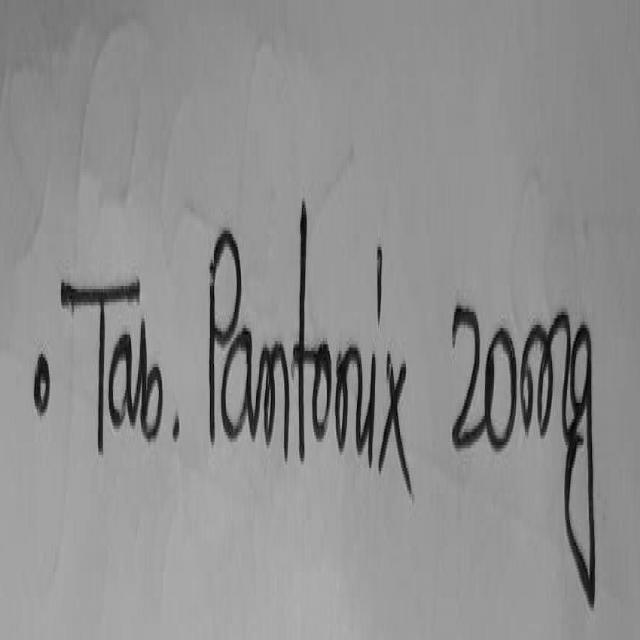0: (486, 325, 518, 447)
2: (453, 302, 486, 443)
P: (209, 227, 241, 437)
T: (60, 276, 138, 450)
a: (221, 325, 257, 446), (108, 331, 137, 426)
b: (139, 318, 162, 437)
g: (566, 322, 596, 603)
i: (360, 351, 376, 463), (377, 240, 382, 320)
m: (522, 309, 572, 440)
n: (336, 344, 368, 448), (264, 341, 290, 456)
o: (312, 341, 332, 437)
t: (294, 198, 317, 456)
x: (379, 351, 413, 492)
